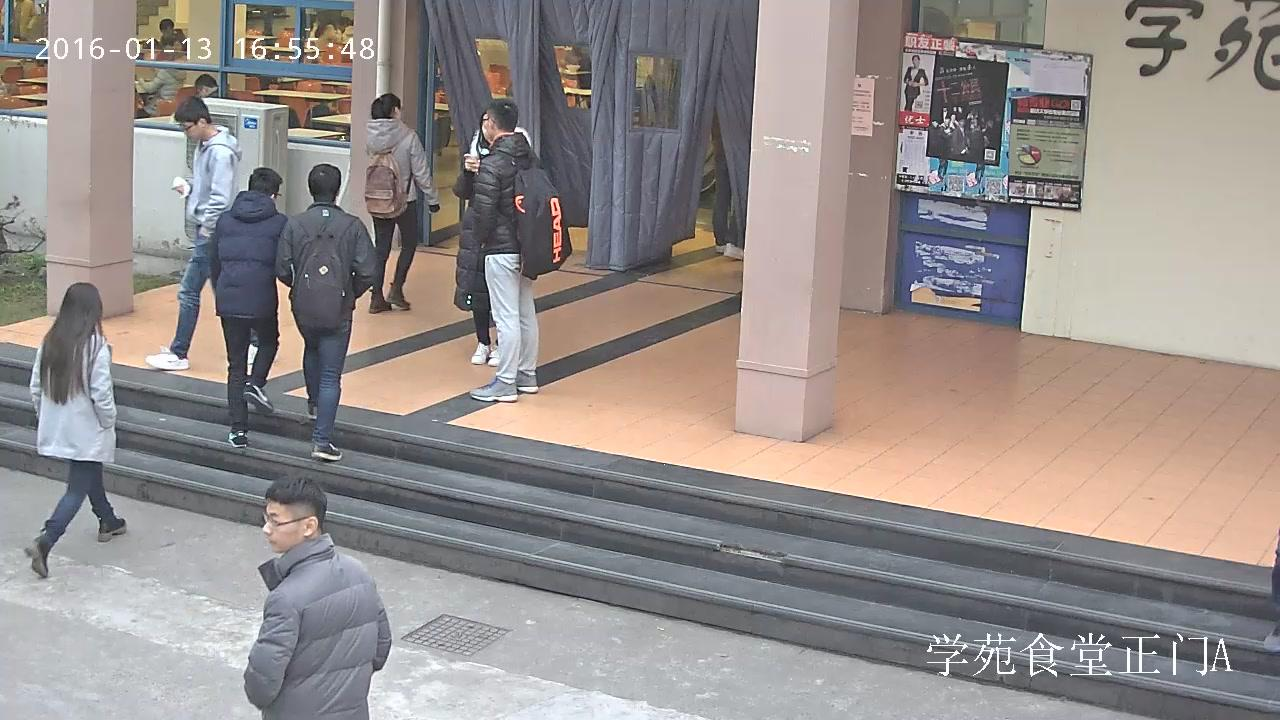person: (243, 474, 390, 720), (144, 95, 261, 371), (23, 282, 127, 577), (471, 97, 572, 400), (276, 162, 378, 459), (207, 167, 290, 447), (451, 105, 532, 366), (364, 93, 440, 315), (710, 104, 745, 261), (135, 45, 185, 121), (306, 9, 341, 51), (903, 54, 928, 112), (156, 16, 188, 58)
